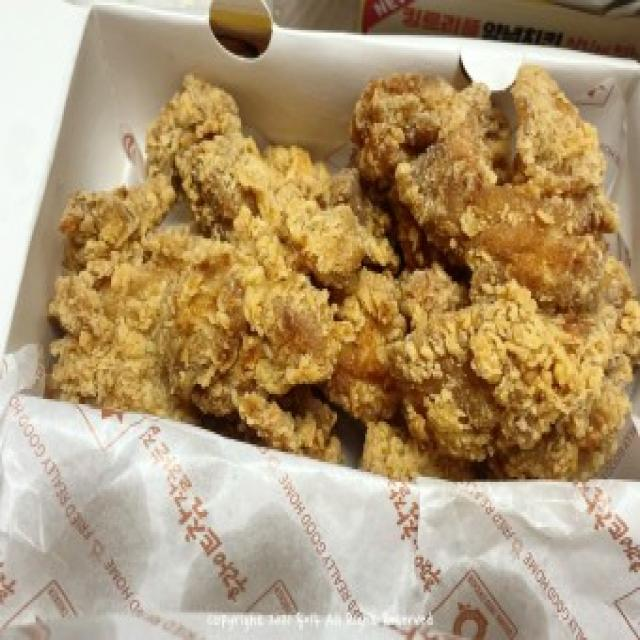Frango: (30, 66, 640, 493)
